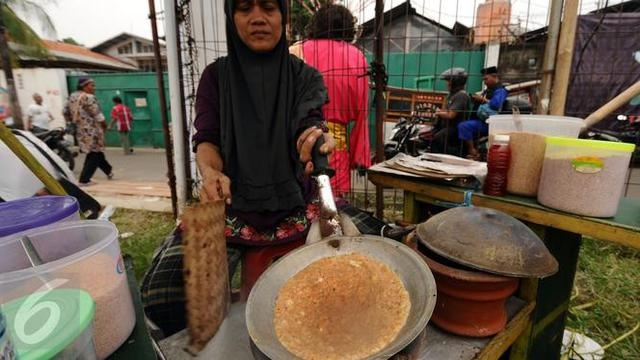kerak_telor: (274, 253, 410, 360)
